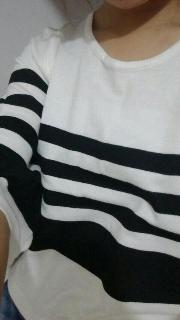long sleeve top: (0, 10, 180, 320)
